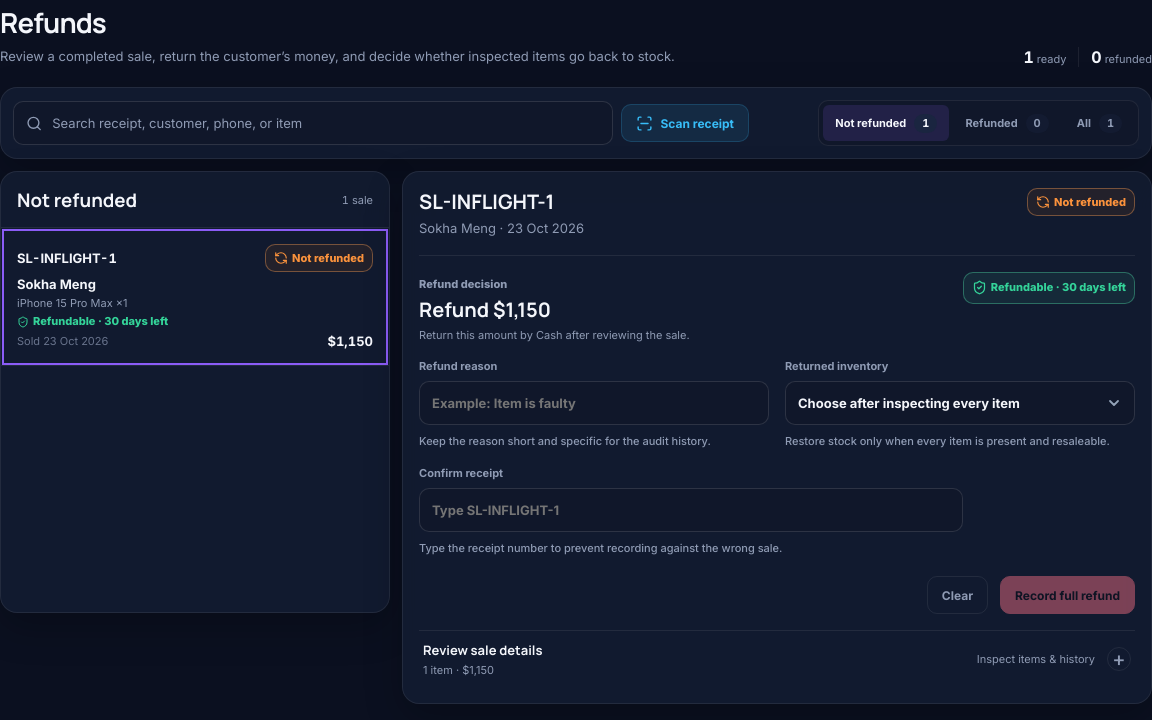
Test: RefundsPage feature integration & safeguards › prevents in-flight duplicate submission on rapid repeated clicks
Expected: the text "SL-INFLIGHT-1" is shown, [17,250,117,266]
Type "Customer changed mind" into the field with placeholder "Example: Item is faulty" at (594, 403), box [419,381,769,425]
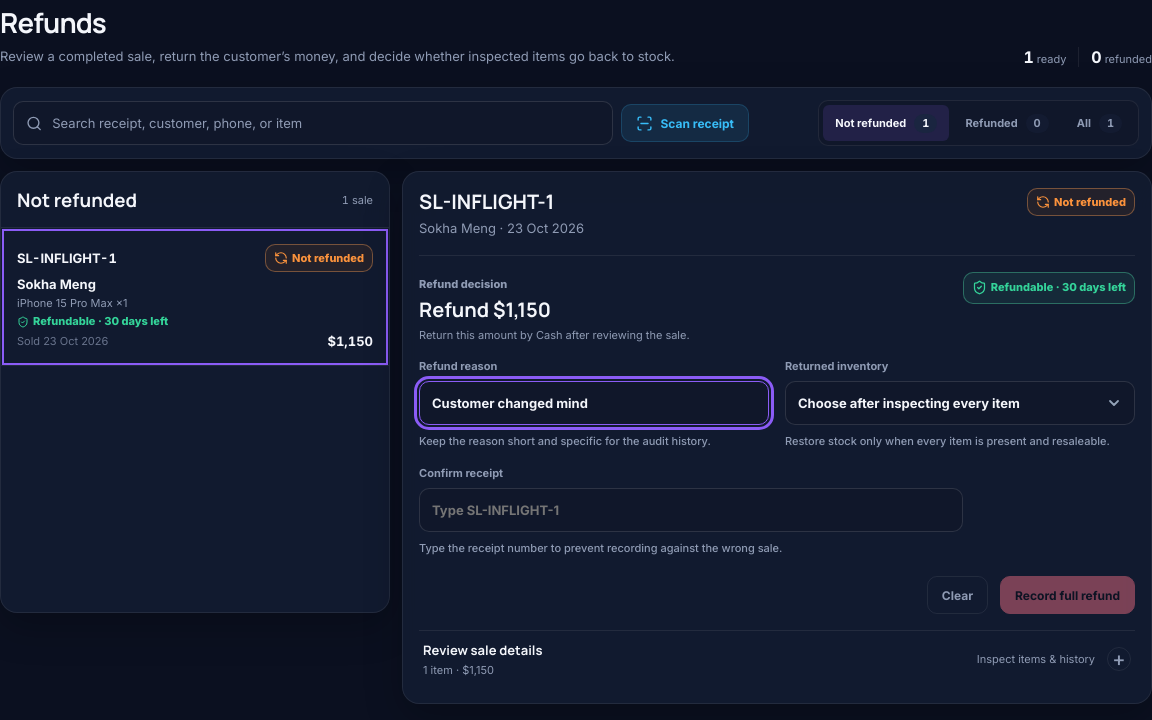
Select "Do not return items to saleable stock" in the dropdown at (960, 403), box [785,381,1135,425]
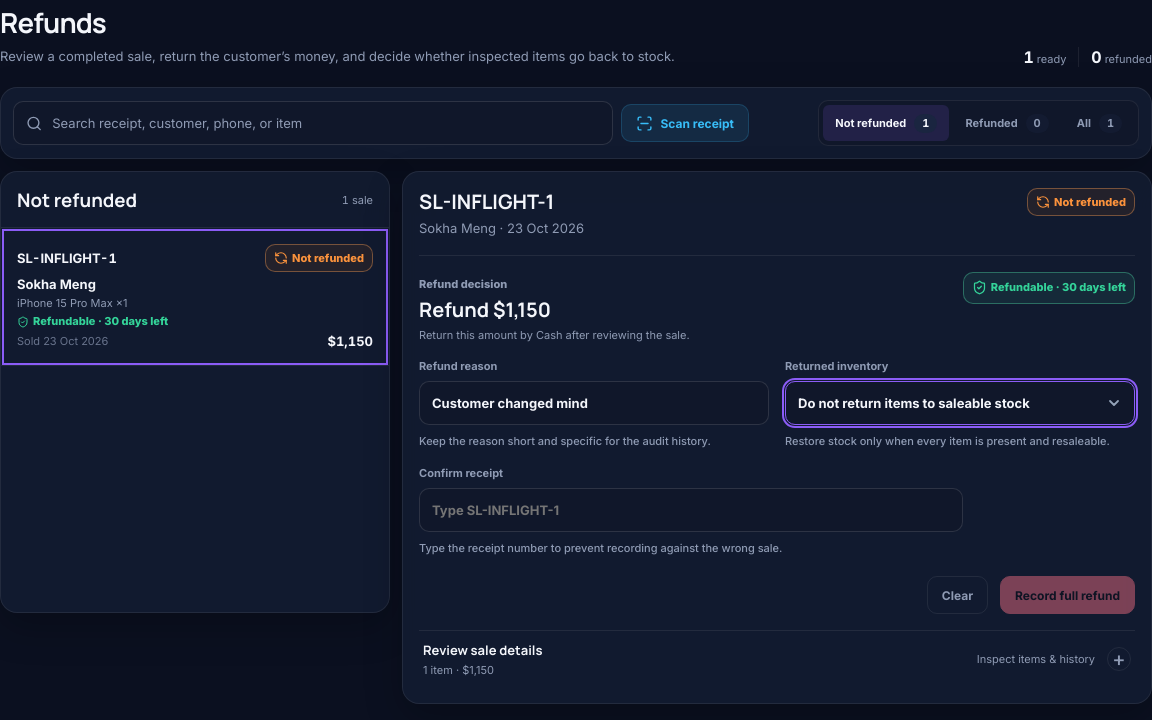
Type "SL-INFLIGHT-1" into the field with placeholder "Type SL-INFLIGHT-1" at (691, 510), box [419,488,963,532]
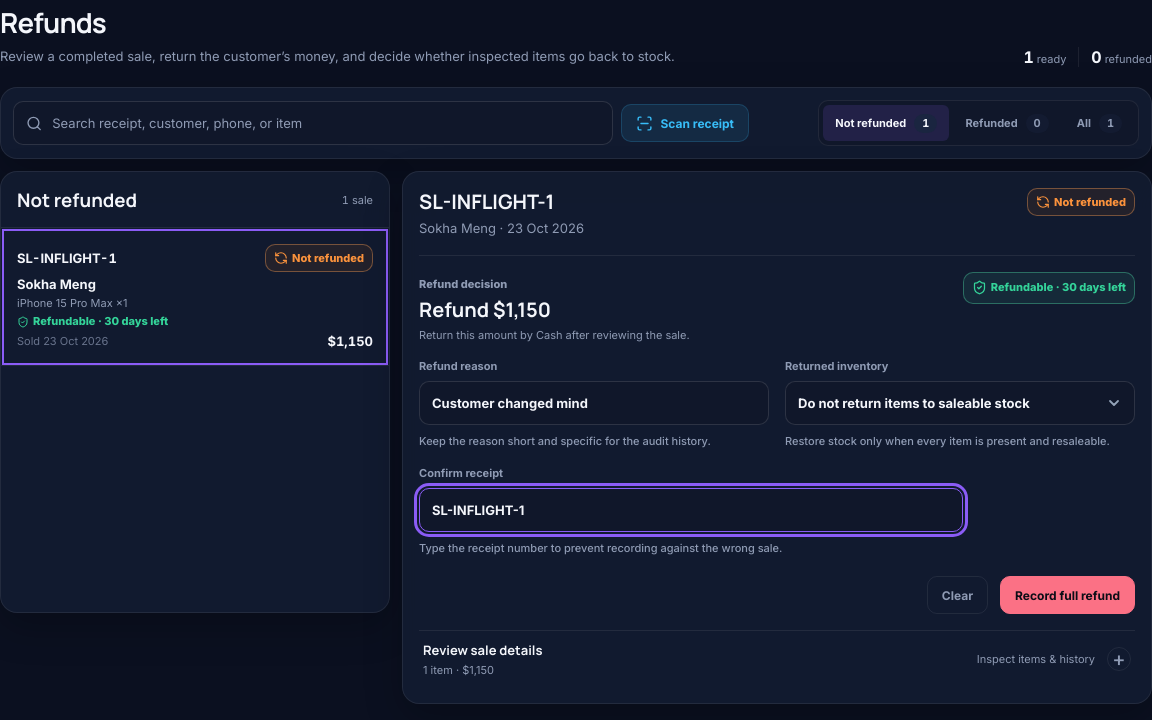
Expected: the button "Record full refund" is enabled, [1000,576,1135,614]
Submit the form named "Record full refund", box [419,256,1135,614]
Submit the form named "Record full refund", box [419,256,1135,614]
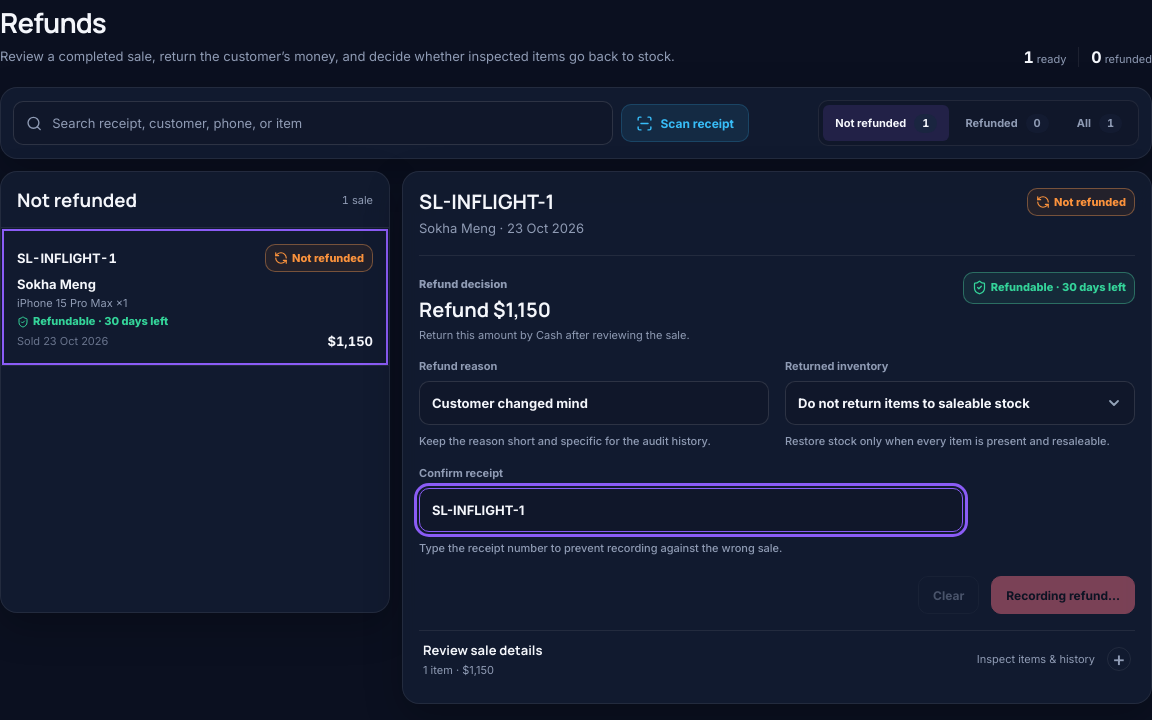
Expected: the button "Recording refund…" is disabled
Click the button "Recording refund…" at (1063, 595), box [991,576,1135,614]
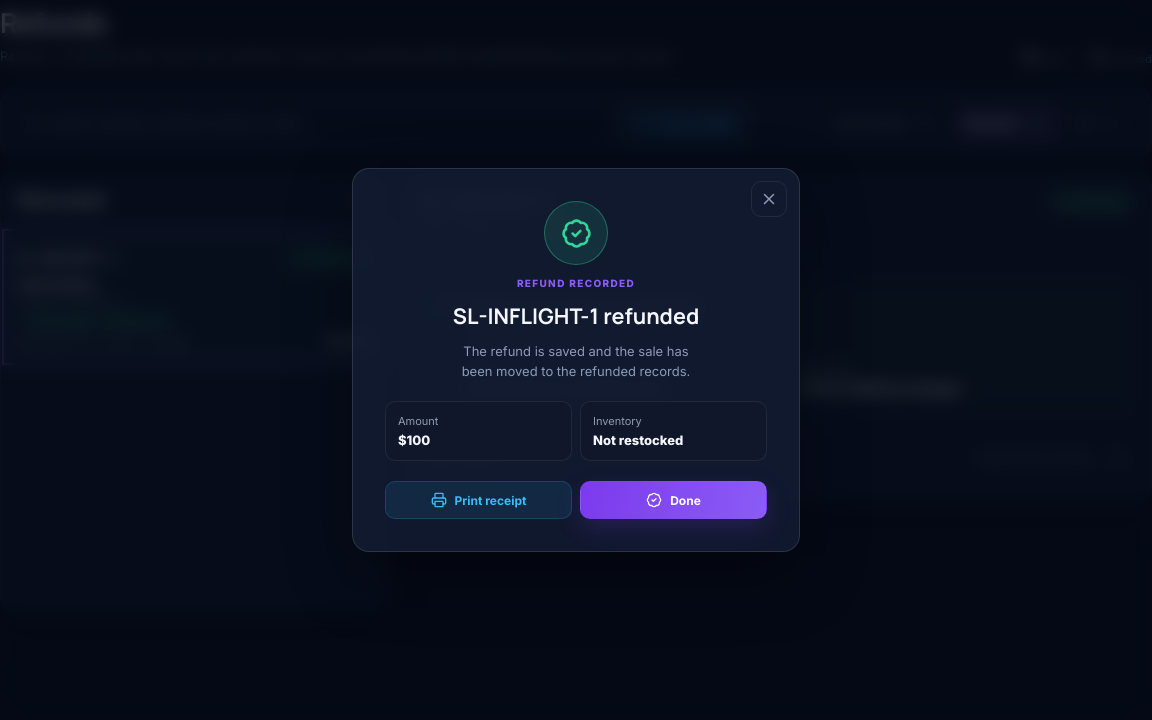
Expected: the dialog "SL-INFLIGHT-1 refunded" is shown, [352,168,800,552]
